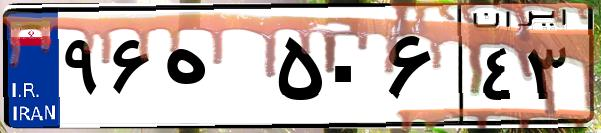0: (330, 28, 385, 110)
3: (525, 38, 570, 115)
4: (475, 38, 525, 113)
5: (270, 28, 330, 110)
6: (385, 28, 445, 110), (110, 28, 158, 98)
9: (57, 26, 110, 100)
ه: (158, 20, 270, 120)
